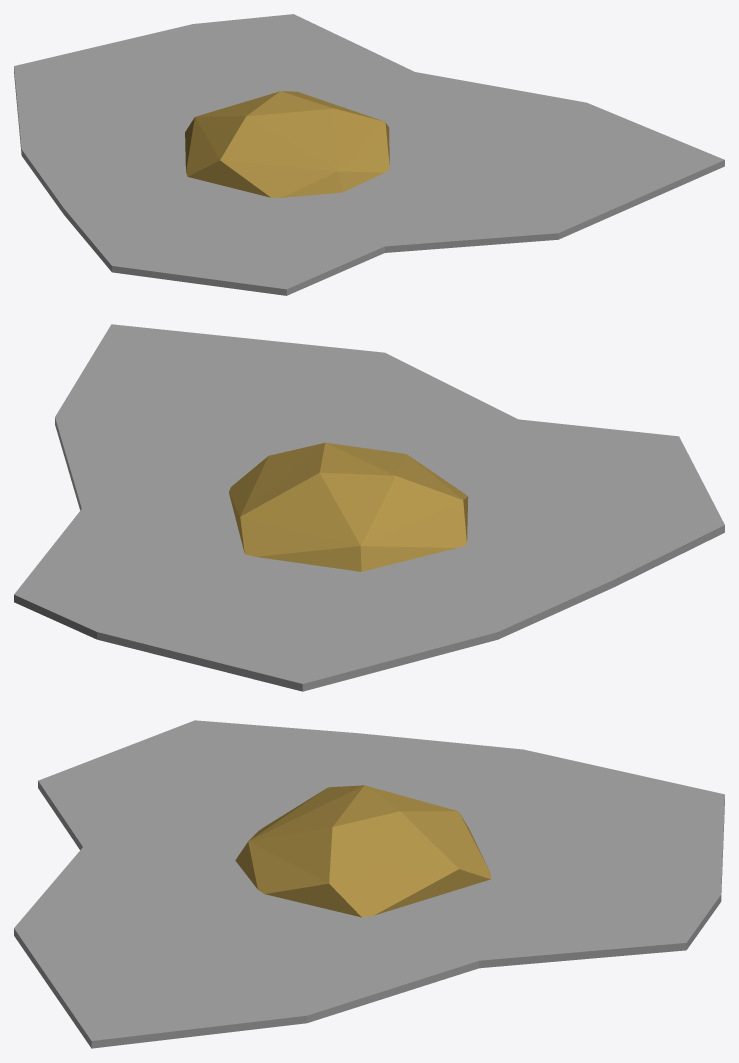
File: quaternius-ultimate-food-egg-fried.glb
3 renders of one model, top to bottom at view 1: azimuth 30°, elevation 25°; view 2: azimuth 150°, elevation 25°; view 3: azimuth 270°, elevation 25°, orthographic. The views are drawn at different scales.
Visible parts, largest first — view 1: Egg_Fried; view 2: Egg_Fried; view 3: Egg_Fried.
Boxes of the visible parts, box(x1,y1,x2,y2) form: Egg_Fried: box(14, 14, 724, 295); Egg_Fried: box(14, 324, 724, 691); Egg_Fried: box(14, 720, 724, 1048).
Size of the model in its own units: 1.19 by 0.1071 by 1.12.
